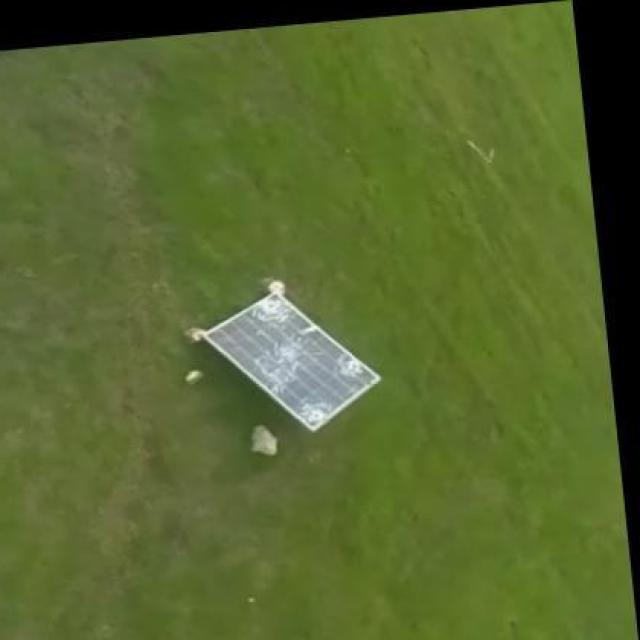cracked: (198, 294, 386, 436)
